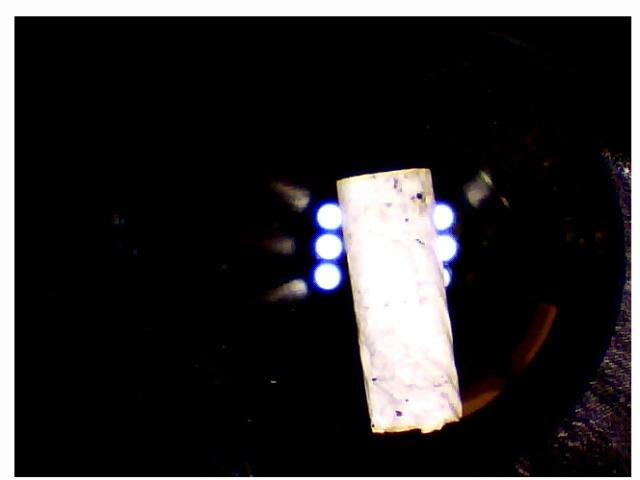megot: (331, 155, 463, 445)
